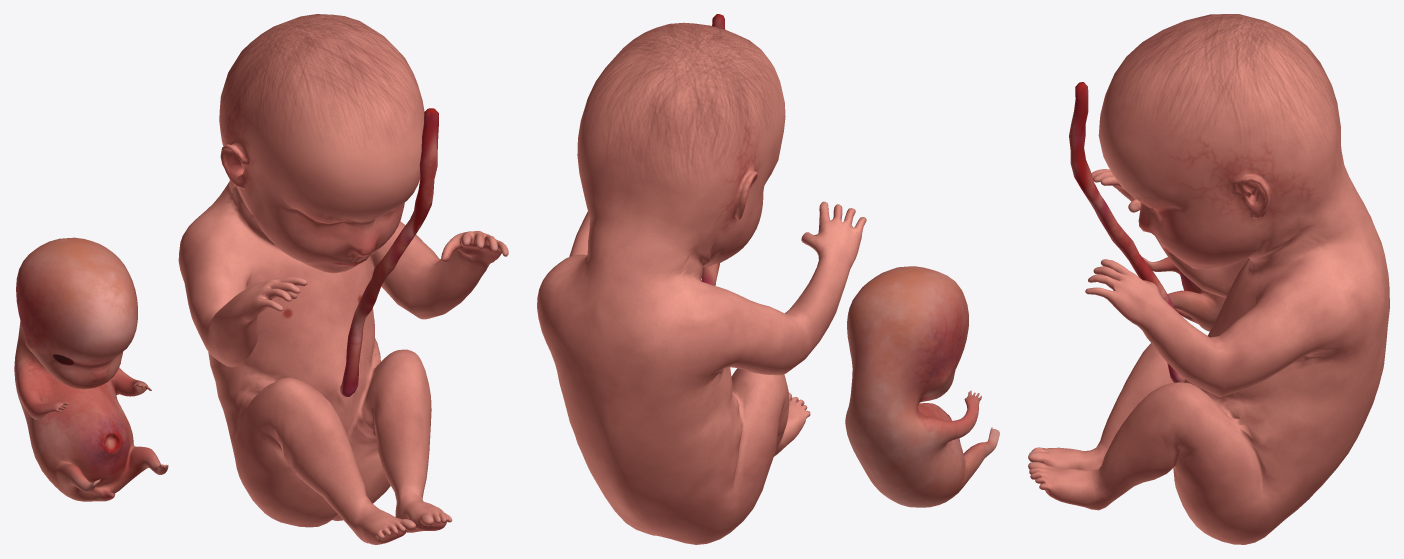
File: Fetus1.glb
3 renders of one model, left to right at view 1: azimuth 30°, elevation 25°; view 2: azimuth 150°, elevation 25°; view 3: azimuth 270°, elevation 25°, orthographic. The views are drawn at different scales.
Visible parts, largest first — view 1: HumanEmbryo_HumanEmbryo_0.001; view 2: HumanEmbryo_HumanEmbryo_0.001; view 3: HumanEmbryo_HumanEmbryo_0.001.
Part boxes in pixels (x1,y1,x2,y2): HumanEmbryo_HumanEmbryo_0.001: (14,14,508,544); HumanEmbryo_HumanEmbryo_0.001: (537,14,999,544); HumanEmbryo_HumanEmbryo_0.001: (1028,14,1389,544).
Size of the model in its own units: 2.65 by 3.02 by 1.94.
1 material, 1 textured.
